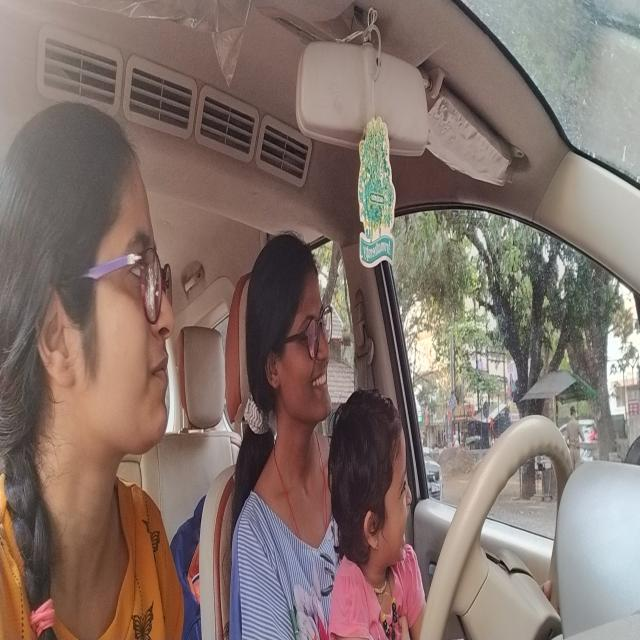child: (326, 382, 414, 572)
person: (1, 105, 183, 508), (239, 222, 336, 454)
